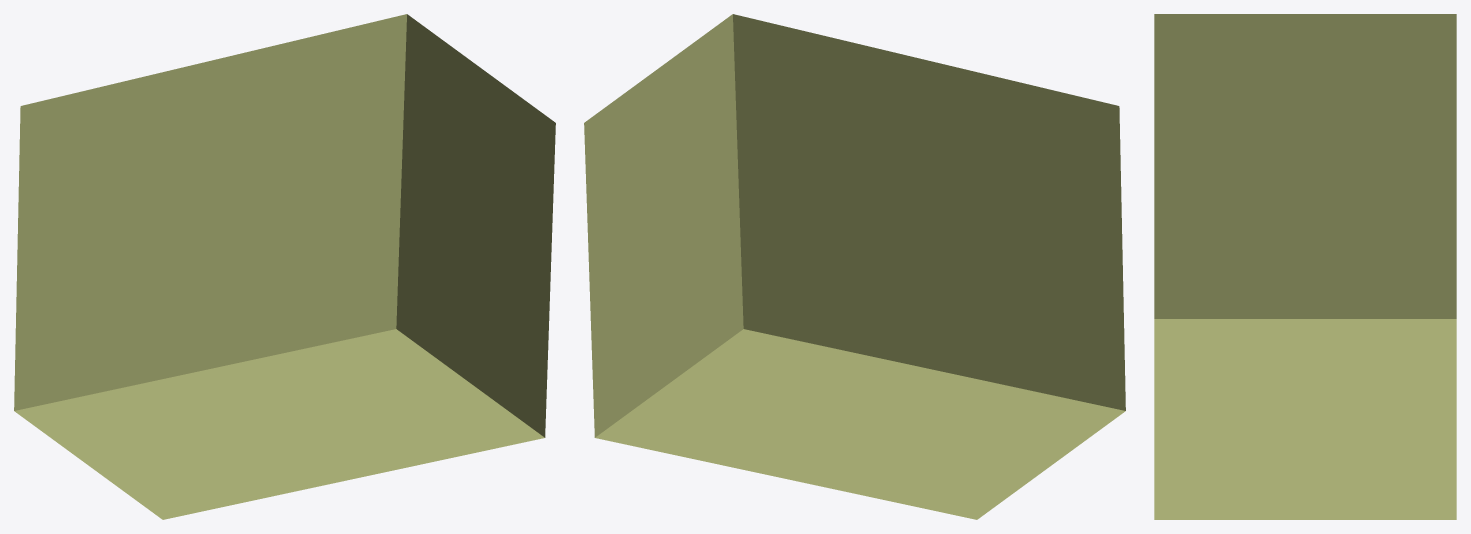
3 renders of one model, left to right at view 1: azimuth 30°, elevation 25°; view 2: azimuth 150°, elevation 25°; view 3: azimuth 270°, elevation 25°, orthographic.
Parts seen in each view (by area): view 1: 0_0_3_1_2_0_3_1_0_0; view 2: 0_0_3_1_2_0_3_1_0_0; view 3: 0_0_3_1_2_0_3_1_0_0.
Boxes of the visible parts, x1=… form: 0_0_3_1_2_0_3_1_0_0: x1=14, y1=14, x2=555, y2=519; 0_0_3_1_2_0_3_1_0_0: x1=584, y1=14, x2=1125, y2=519; 0_0_3_1_2_0_3_1_0_0: x1=1154, y1=14, x2=1456, y2=519.
Bounding box in the file's own units: 9.15 × 7 × 6.
